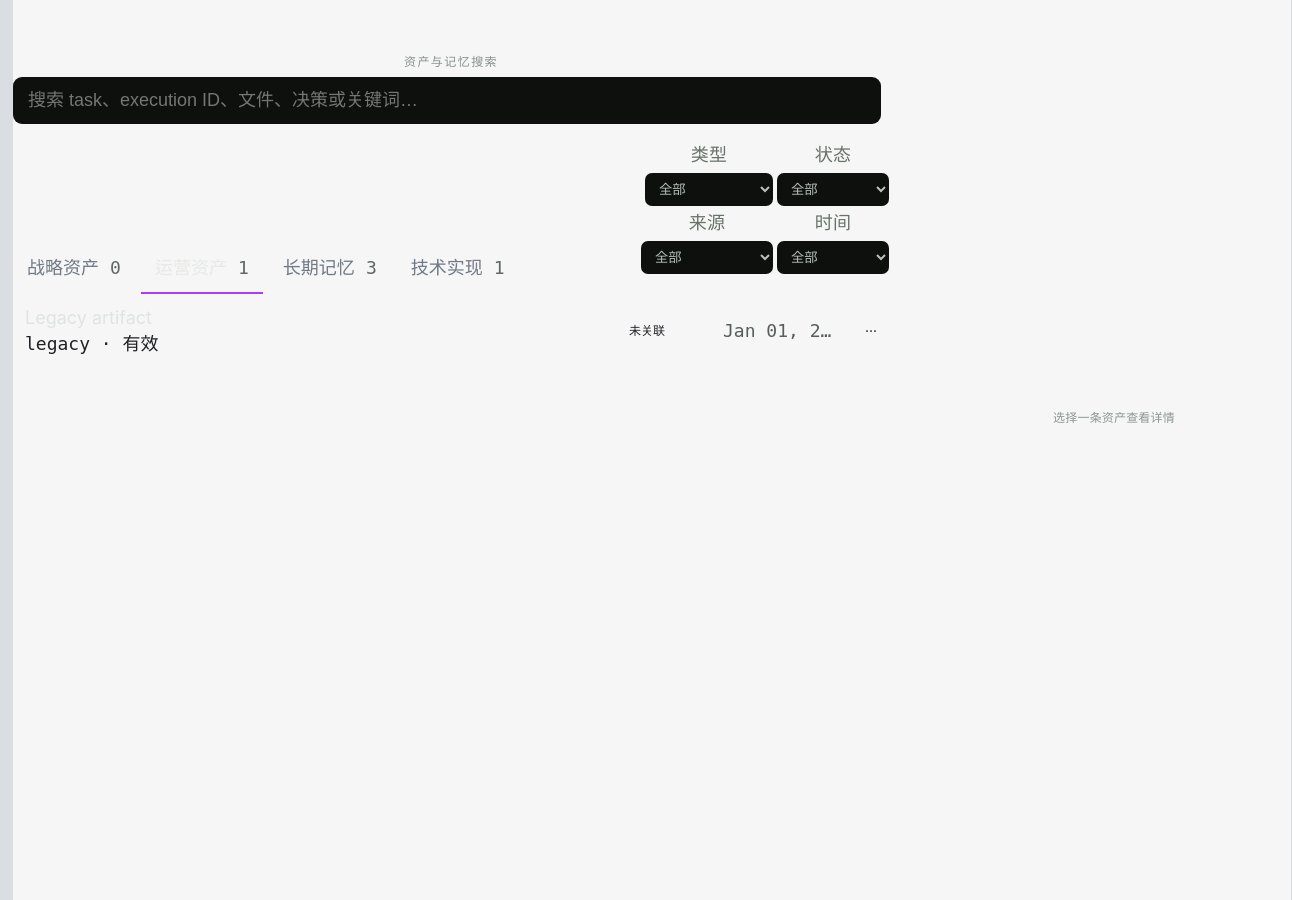
AssetMemoryCenter › filters memories by type, execution id and keyword
This screenshot has width=1292, height=900.
Click the tab "长期记忆 3" at (330, 269), box left=269, top=244, right=391, bottom=294
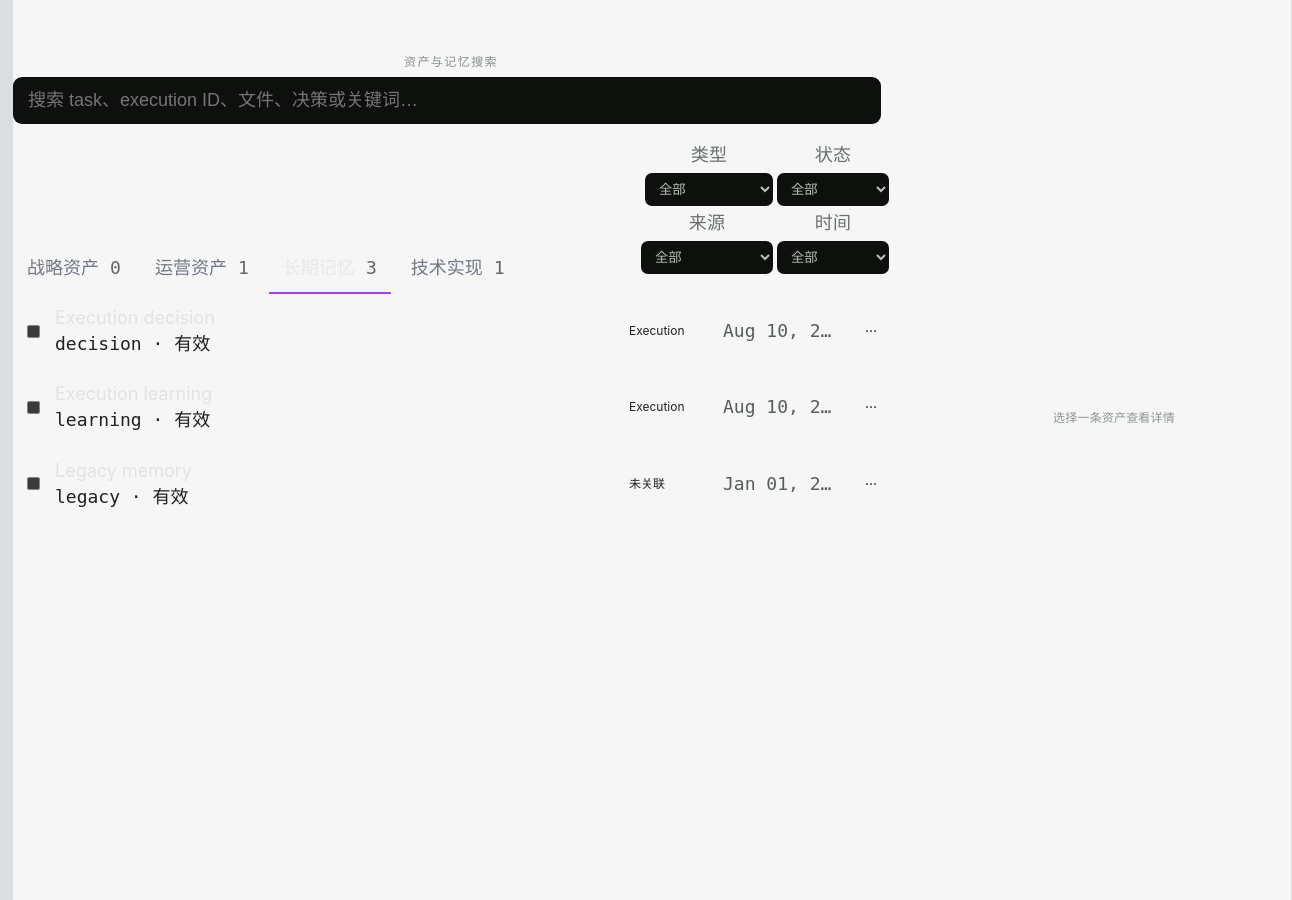
Select "learning" in the dropdown labelled "类型" at (709, 190), box left=645, top=173, right=773, bottom=206
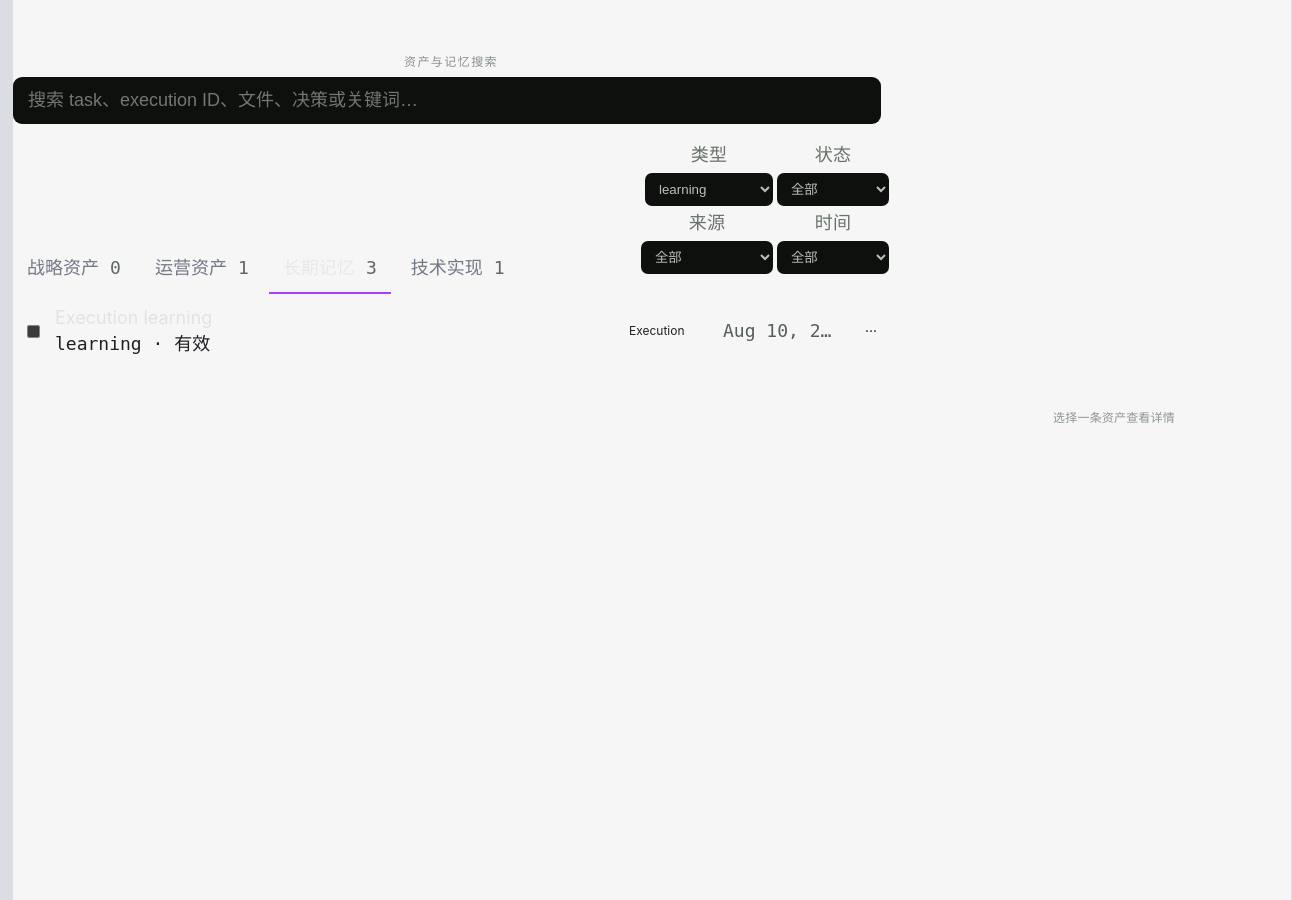
expect the button "Execution decision" is not shown: met
Type "execution-1" into the field labelled "资产与记忆搜索" at (447, 100), box left=13, top=77, right=881, bottom=124
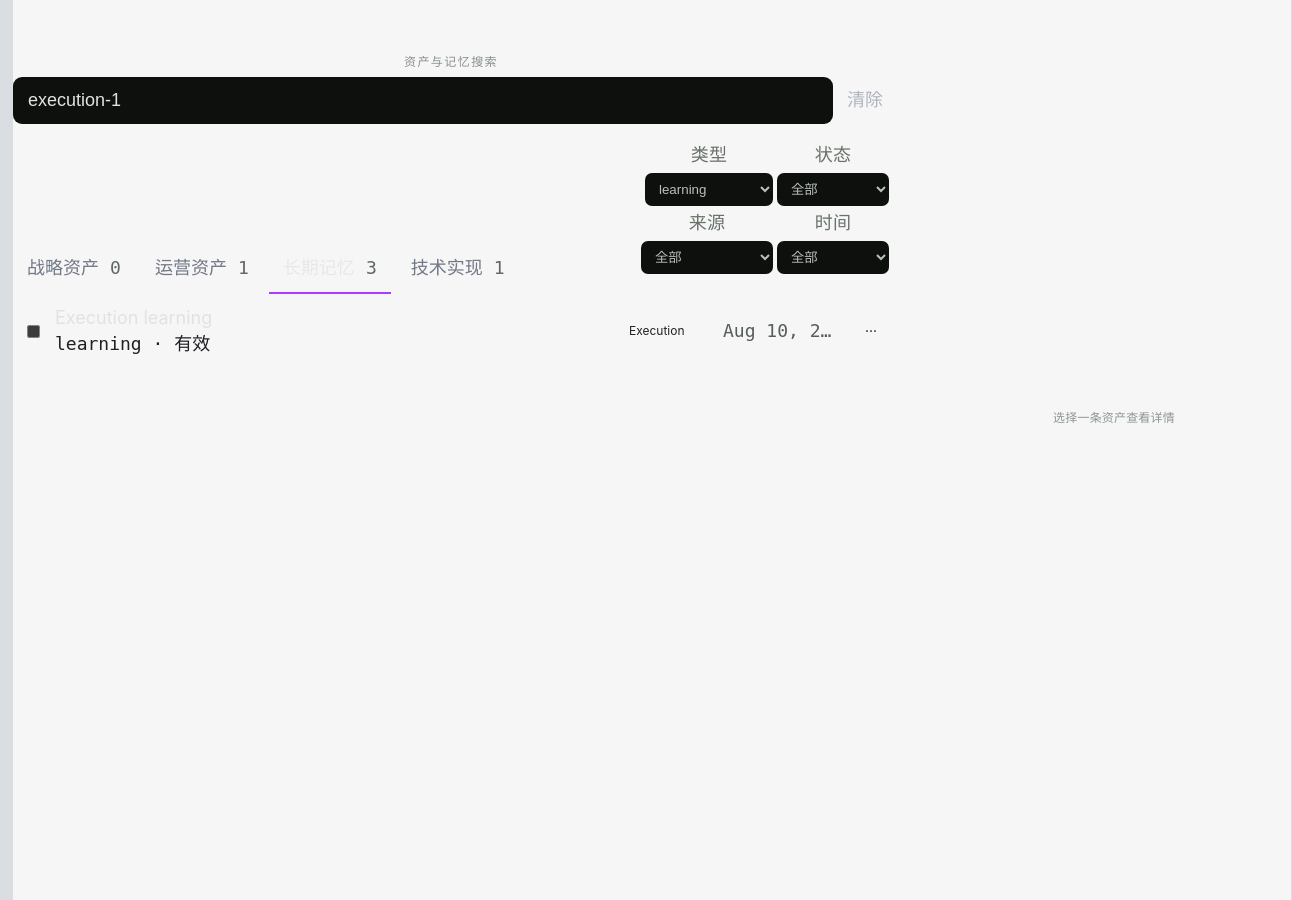
Replace the text in the field labelled "资产与记忆搜索" with "missing" at (423, 100), box left=13, top=77, right=833, bottom=124
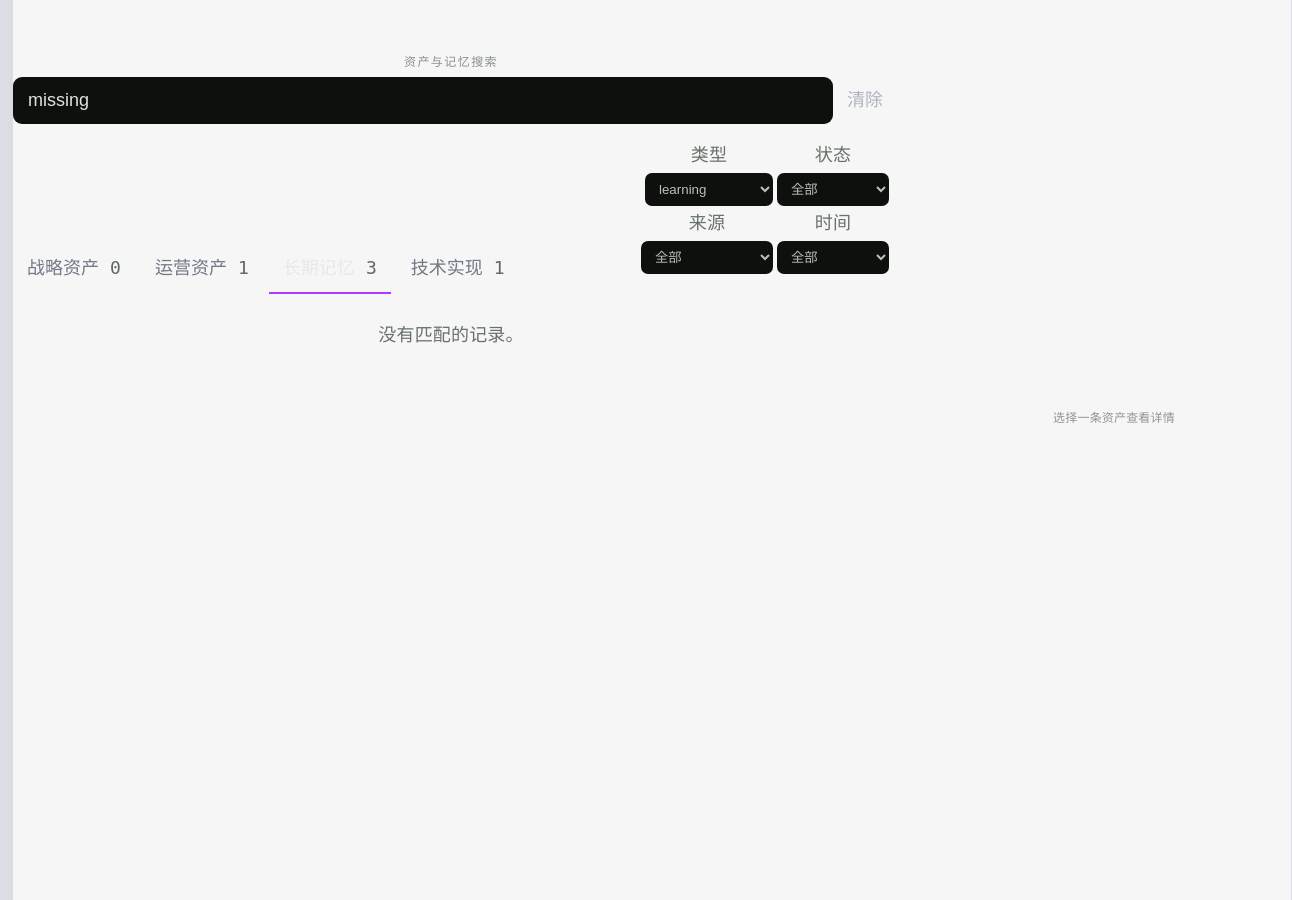
expect the text "没有匹配的记录。" is shown: met, box left=378, top=324, right=524, bottom=345
